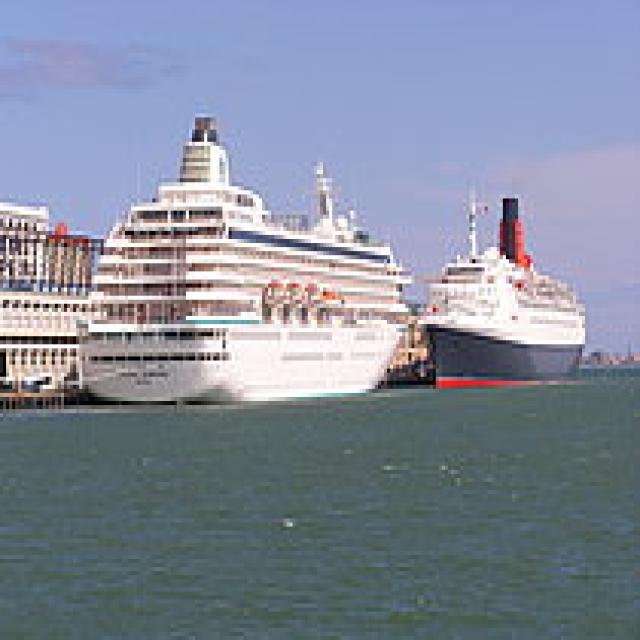Cruise: (76, 105, 412, 405), (415, 178, 585, 389)
